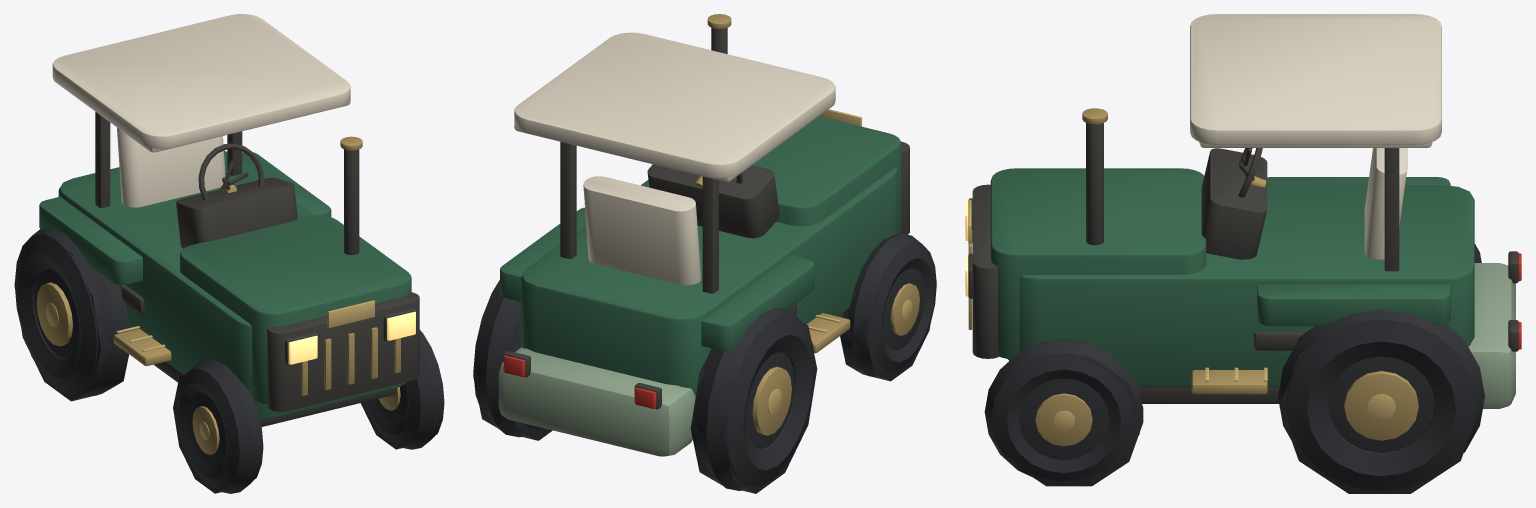
The model's file is grounds_tractor_broken.glb.
3 renders of one model, left to right at view 1: azimuth 30°, elevation 25°; view 2: azimuth 150°, elevation 25°; view 3: azimuth 270°, elevation 25°, orthographic. The views are drawn at different scales.
Visible parts, largest first — view 1: LOD0_StaticBody, LOD1_StaticBody, Wheel_RL, Wheel_FL, Wheel_FR, SteeringWheel, LIGHT_Head_L, LIGHT_Head_R; view 2: LOD0_StaticBody, LOD1_StaticBody, Wheel_RL, Wheel_FL, Wheel_RR; view 3: LOD0_StaticBody, LOD1_StaticBody, Wheel_RR, Wheel_FR, SteeringWheel.
Part boxes in pixels (box(x1,y1,x2,y2)): LOD0_StaticBody: box(39, 14, 419, 426); LOD1_StaticBody: box(14, 77, 437, 493); Wheel_RL: box(14, 227, 124, 397); Wheel_FL: box(177, 360, 263, 493); Wheel_FR: box(365, 330, 444, 449); SteeringWheel: box(198, 143, 264, 199); LIGHT_Head_L: box(288, 335, 317, 364); LIGHT_Head_R: box(387, 311, 415, 340); LOD0_StaticBody: box(498, 14, 909, 456); LOD1_StaticBody: box(473, 100, 936, 493); Wheel_RL: box(694, 307, 815, 490); Wheel_FL: box(847, 233, 936, 377); Wheel_RR: box(473, 280, 542, 437); LOD0_StaticBody: box(968, 14, 1515, 408); LOD1_StaticBody: box(995, 142, 1479, 493); Wheel_RR: box(1278, 309, 1484, 491); Wheel_FR: box(984, 339, 1143, 481); SteeringWheel: box(1238, 148, 1266, 197).
Size of what is drawn, in the model's own units: 1.92 by 2.31 by 3.22.
